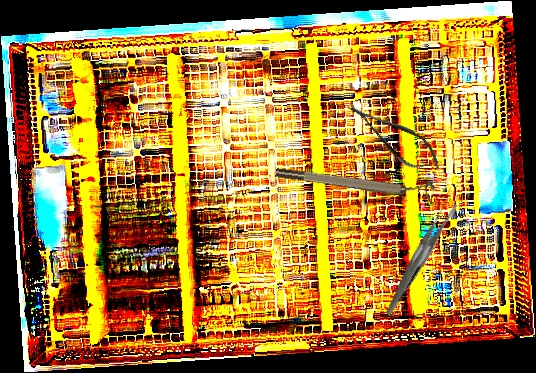Dressing Forceps: (356, 196, 482, 317)
Fixation Ring: (274, 158, 436, 205)
Micro Scissor: (340, 90, 449, 183)
